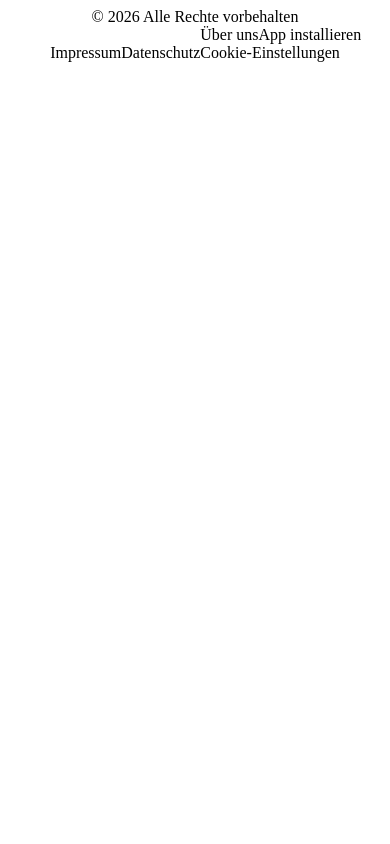
Test: Footer install link › opens the iOS instructions in the popup when the link is clicked on iOS
Click the button with test id "footer-install-link" at (310, 35), box [258,26,361,44]
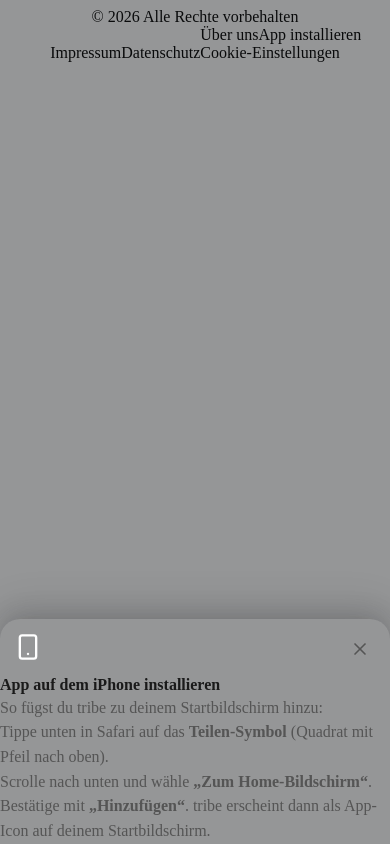
expect the dialog with test id "pwa-install-sheet" is shown: met, box [0,619,389,843]
expect the list with test id "pwa-install-ios-steps" is shown: met, box [0,720,389,843]
